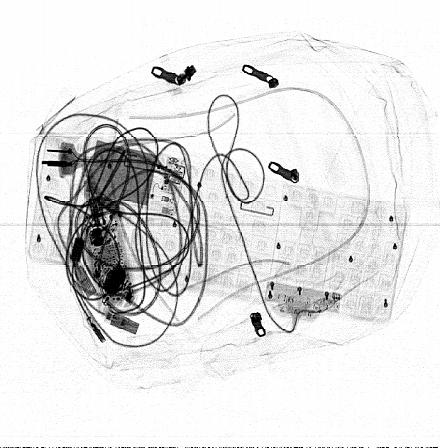Powerbank: (81, 134, 188, 219)
